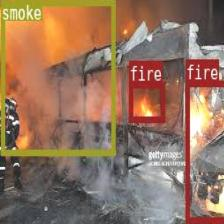fire: (185, 80, 224, 222), (129, 82, 164, 122)
smoke: (0, 0, 114, 155)
